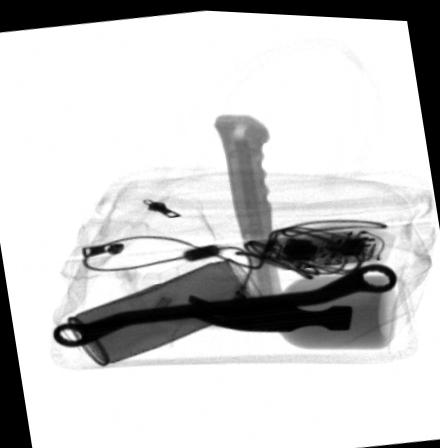Hammer: (186, 110, 353, 329)
Wrench: (54, 259, 398, 347)
